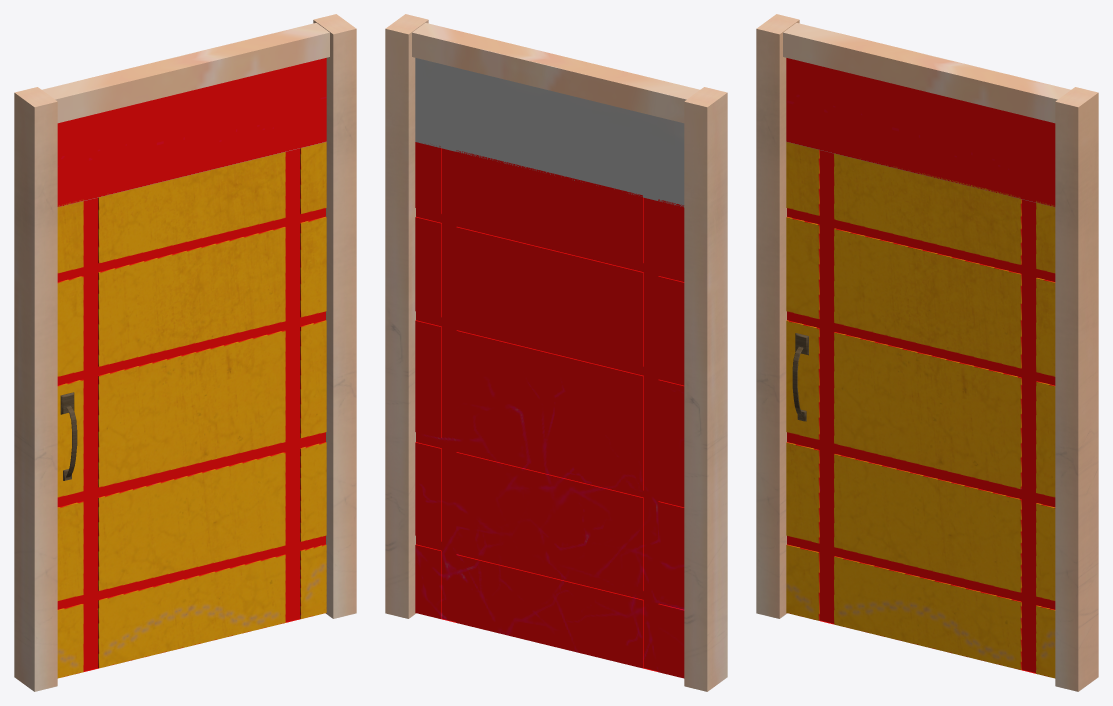
File: door.fbx
The picture shows the model from 3 angles, left to right: view 1: azimuth 30°, elevation 25°; view 2: azimuth 150°, elevation 25°; view 3: azimuth 330°, elevation 25°; orthographic projection.
Parts seen in each view (by area): view 1: door38; view 2: door38; view 3: door38.
Boxes of the visible parts, left/top/right/bottom form: door38: left=14, top=14, right=356, bottom=691; door38: left=385, top=14, right=727, bottom=691; door38: left=756, top=14, right=1098, bottom=691.
Bounding box in the file's own units: 138 × 240 × 15.73.
